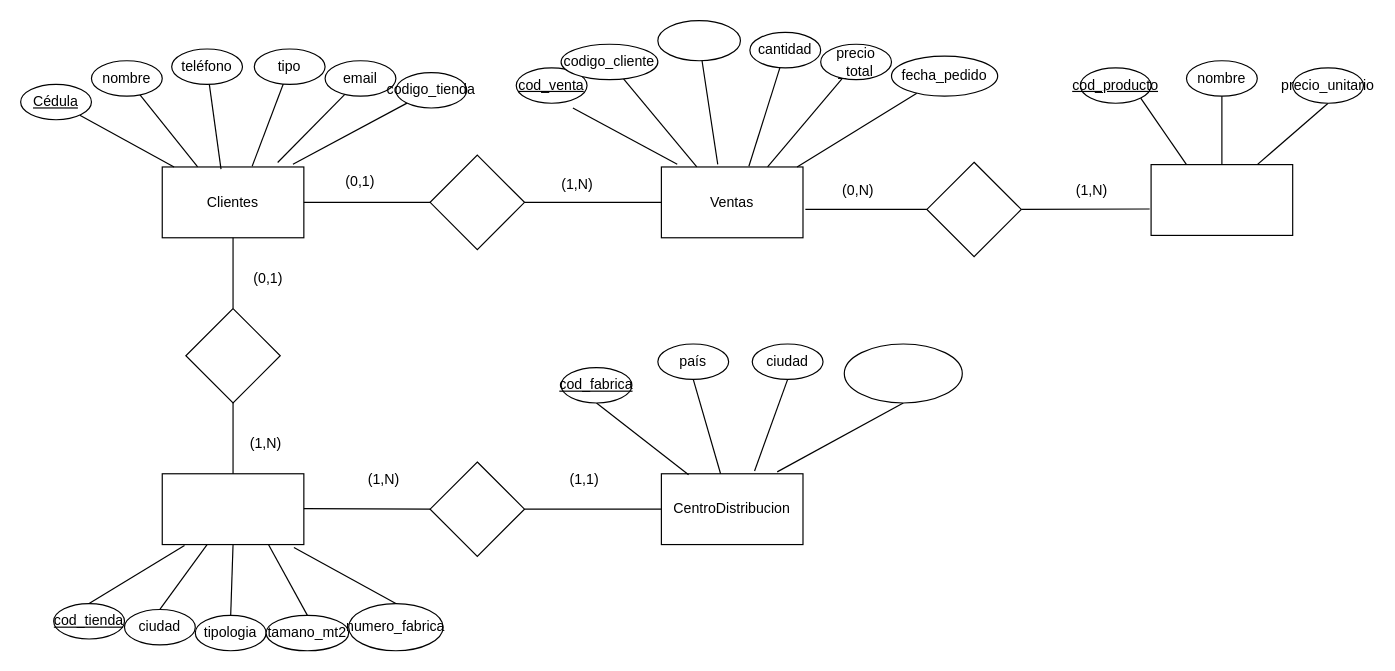
This 1395x671 diagram has some shape labels left out. The shapes that lost their labels are listed below. From the top down, each one's centre as x and y in pixels, then its label:
At (698,40): "codigo_producto".
At (477,202): "registra venta".
At (973,209): "compuesto por".
At (1221,199): "Productos".
At (232,355): "Realiza compra".
At (902,373): "numero_empleados".
At (232,509): "Tiendas".
At (477,508): "Asociada a".
